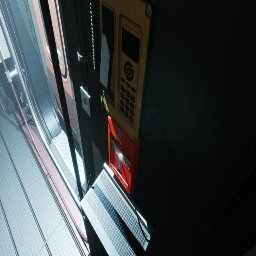EmergencyPhone ,: (90, 0, 157, 142)
FireAlarm ,: (108, 114, 140, 194)
SafetySwitchPanel ,: (0, 25, 11, 63)
